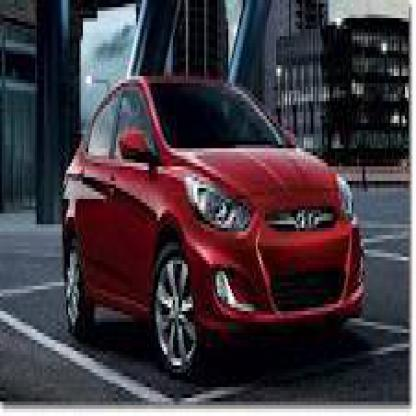Vehicle: (61, 73, 370, 384)
